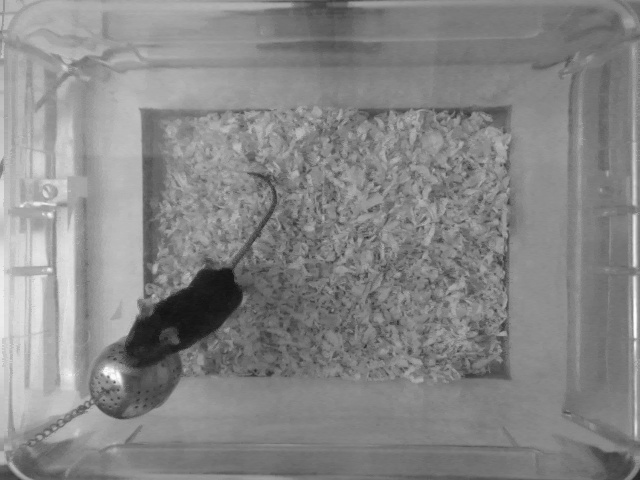mice: (120, 172, 277, 369)
